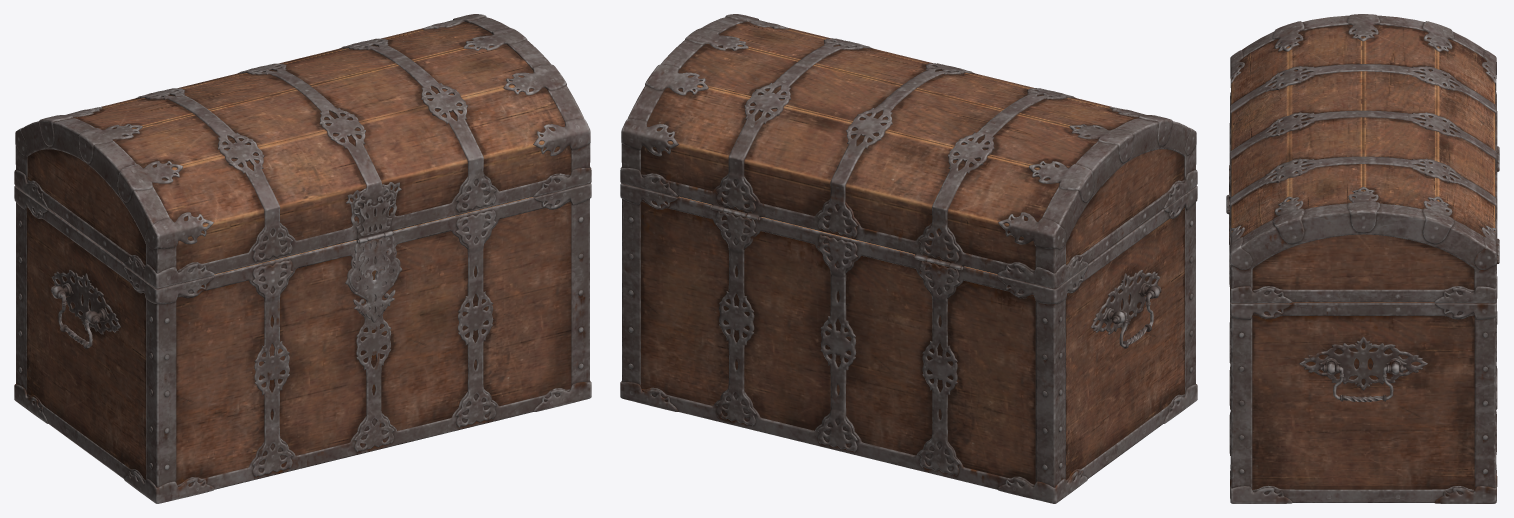
File: treasure_chest_1k.fbx
The picture shows the model from 3 angles, left to right: view 1: azimuth 30°, elevation 25°; view 2: azimuth 150°, elevation 25°; view 3: azimuth 270°, elevation 25°; orthographic projection. The views are drawn at different scales.
Parts seen in each view (by area): view 1: treasure_chest_bottom, treasure_chest_lid, treasure_chest_lock; view 2: treasure_chest_bottom, treasure_chest_lid; view 3: treasure_chest_lid, treasure_chest_bottom, treasure_chest_handle_right.
Part boxes in pixels (x1,y1,x2,y2): treasure_chest_bottom: [14, 183, 591, 503]; treasure_chest_lid: [14, 14, 591, 288]; treasure_chest_lock: [349, 233, 399, 322]; treasure_chest_bottom: [620, 183, 1197, 503]; treasure_chest_lid: [620, 14, 1197, 288]; treasure_chest_lid: [1226, 14, 1499, 303]; treasure_chest_bottom: [1229, 152, 1499, 503]; treasure_chest_handle_right: [1320, 365, 1406, 402].
Bounding box in the file's own units: 52.29 × 95.9 × 61.9.
